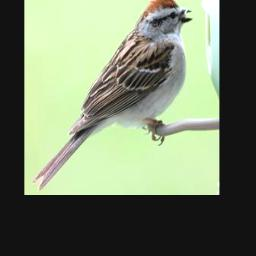Sparrow: (34, 0, 195, 192)
